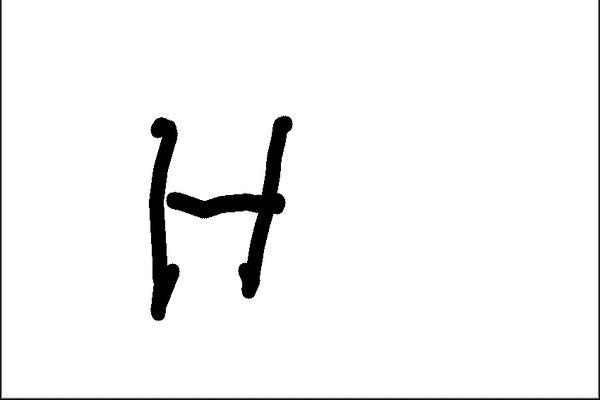H: (131, 107, 298, 322)
